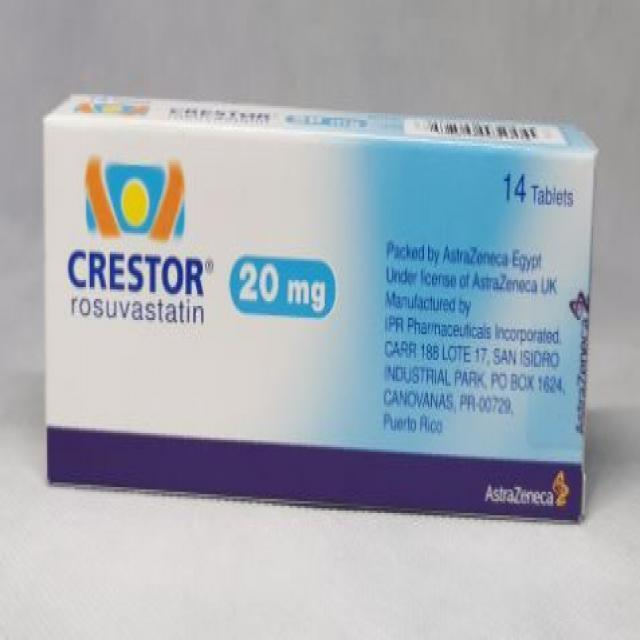drug-name: (66, 248, 210, 296)
